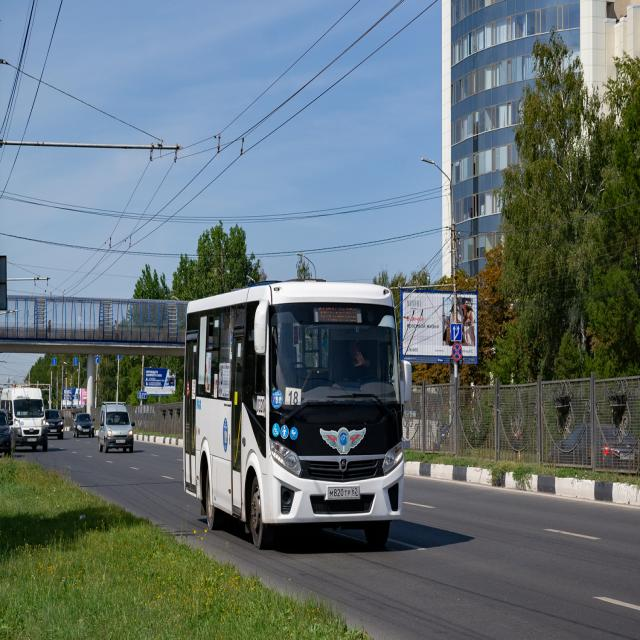number-of-bus: (287, 389, 301, 408)
